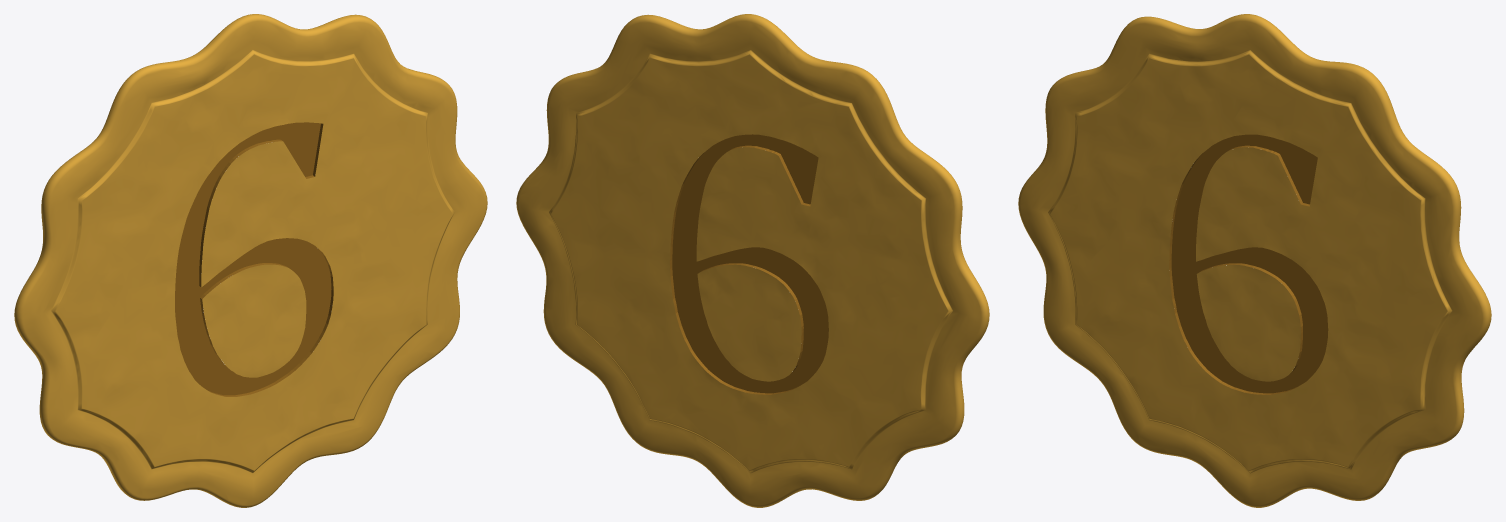
File: badge-6.glb
The picture shows the model from 3 angles, left to right: view 1: azimuth 30°, elevation 25°; view 2: azimuth 150°, elevation 25°; view 3: azimuth 330°, elevation 25°; orthographic projection.
Parts seen in each view (by area): view 1: badge_body, digit_6_front; view 2: badge_body, digit_6_front; view 3: badge_body, digit_6_front.
Boxes of the visible parts, x1,y1,x2,y2 form: badge_body: (14, 14, 487, 507); digit_6_front: (175, 122, 333, 396); badge_body: (516, 14, 989, 507); digit_6_front: (670, 134, 828, 394); badge_body: (1018, 14, 1491, 507); digit_6_front: (1169, 134, 1328, 394).
Size of the model in its own units: 0.2585 by 0.2575 by 0.00991.
